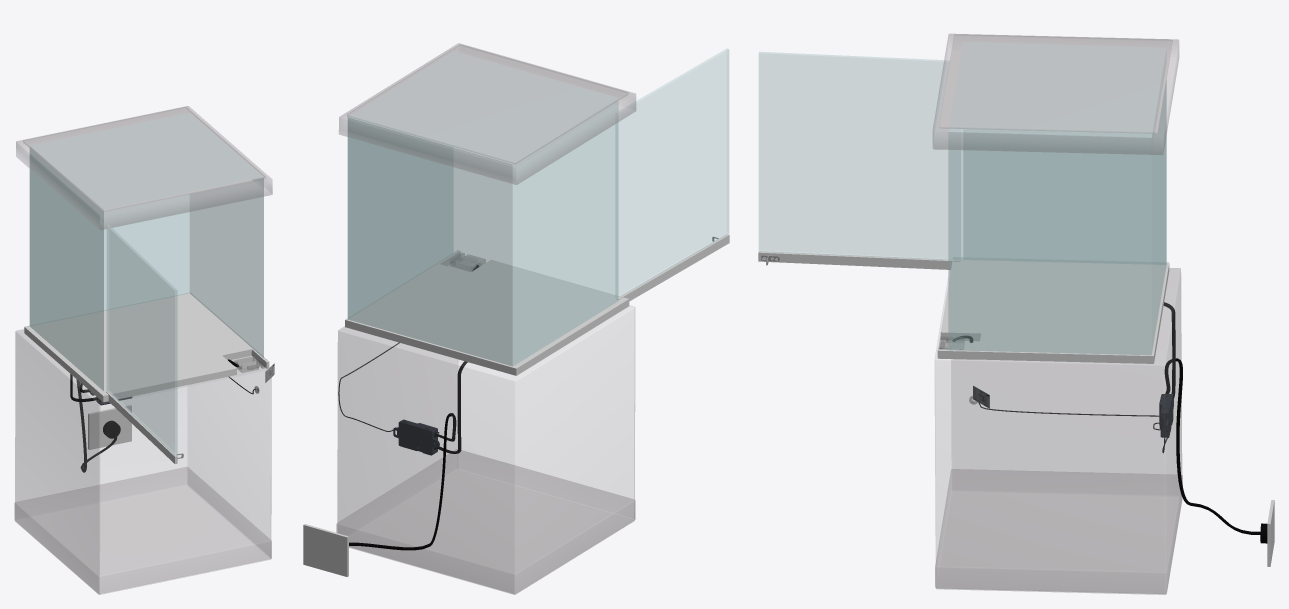
Rendered from SHOWCASE-AIR2MINI.glb.
3 renders of one model, left to right at view 1: azimuth 30°, elevation 25°; view 2: azimuth 150°, elevation 25°; view 3: azimuth 270°, elevation 25°, orthographic. The views are drawn at different scales.
Visible parts, largest first — view 1: 7191_pillars_element_375, glass, 7191_pillar1, Cube.001, Cube, Cube.003, Cube.002, Catenary, mesh_0; view 2: glass, 7191_pillars_element_375, 7191_pillar1, Cube, Cube.001, Cube.003, Cube.002, Cylinder.015, Catenary; view 3: glass, 7191_pillars_element_375, Cube, 7191_pillar1, Cube.001, Cube.002, Catenary.
Boxes of the visible parts, x1,y1,x2,y2 form: 7191_pillars_element_375: (14,329,271,594); glass: (29,113,263,390); 7191_pillar1: (16,106,272,229); Cube.001: (24,292,269,402); Cube: (107,225,177,455); Cube.003: (88,405,131,449); Cube.002: (106,391,177,463); Catenary: (76,379,117,472); mesh_0: (234,356,264,372); glass: (347,51,618,366); 7191_pillars_element_375: (336,305,635,594); 7191_pillar1: (339,43,635,184); Cube: (616,49,728,297); Cube.001: (345,250,629,375); Cube.003: (303,524,348,576); Cube.002: (616,234,729,301); Cylinder.015: (393,419,439,455); Catenary: (349,413,456,550); glass: (948,42,1166,355); 7191_pillars_element_375: (935,268,1182,594); Cube: (759,52,960,260); 7191_pillar1: (933,34,1178,154); Cube.001: (937,257,1169,363); Cube.002: (758,251,961,269); Catenary: (1164,358,1260,534).
Size of what is drawn, in the model's own units: 1.48 by 3.43 by 2.81.
41 materials, 1 textured.
